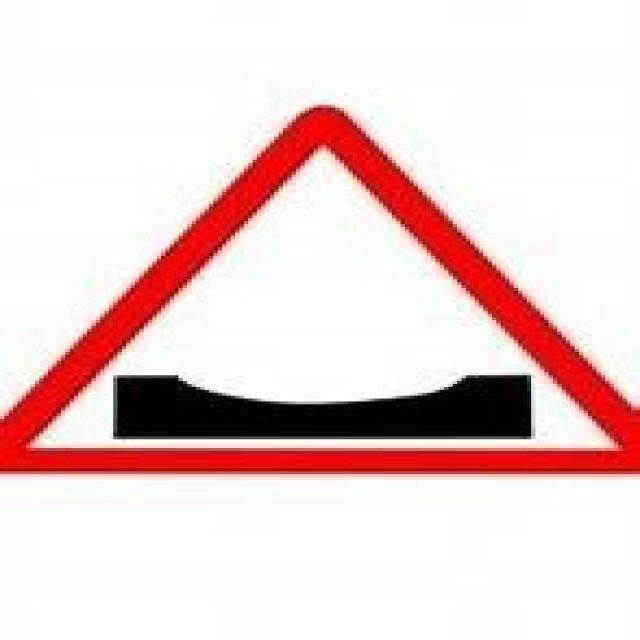dangerous dip: (12, 87, 626, 492)
